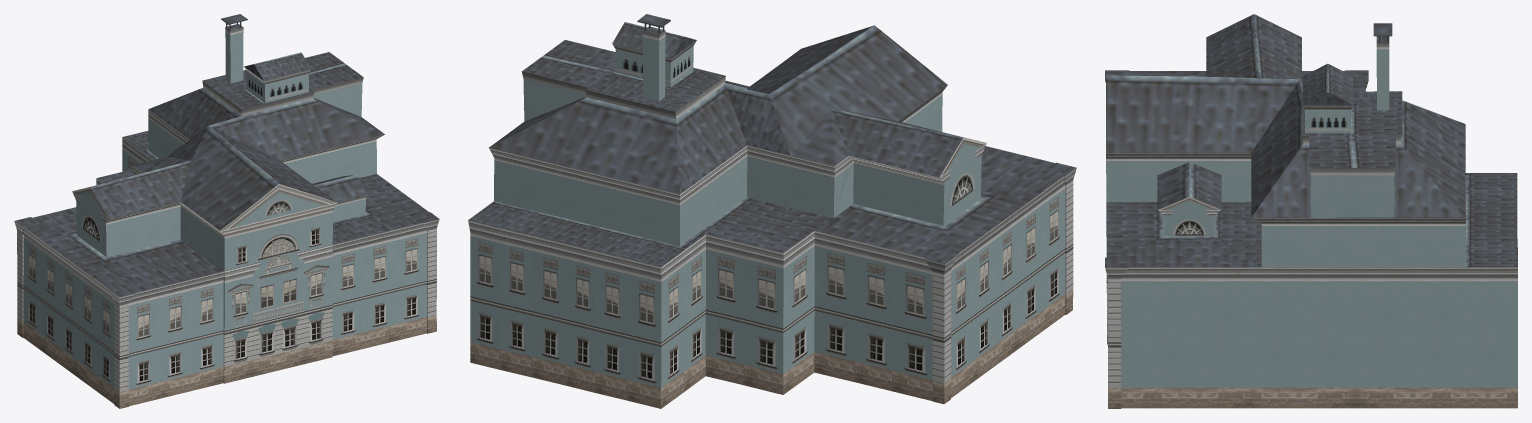
The picture shows the model from 3 angles, left to right: view 1: azimuth 30°, elevation 25°; view 2: azimuth 150°, elevation 25°; view 3: azimuth 270°, elevation 25°; orthographic projection. The views are drawn at different scales.
Parts seen in each view (by area): view 1: House_2_lod_2; view 2: House_2_lod_2; view 3: House_2_lod_2.
Boxes of the visible parts, x1,y1,x2,y2 form: House_2_lod_2: (14, 14, 439, 408); House_2_lod_2: (468, 14, 1076, 408); House_2_lod_2: (1105, 14, 1517, 408).
Size of the model in its own units: 120 by 89.7 by 104.
